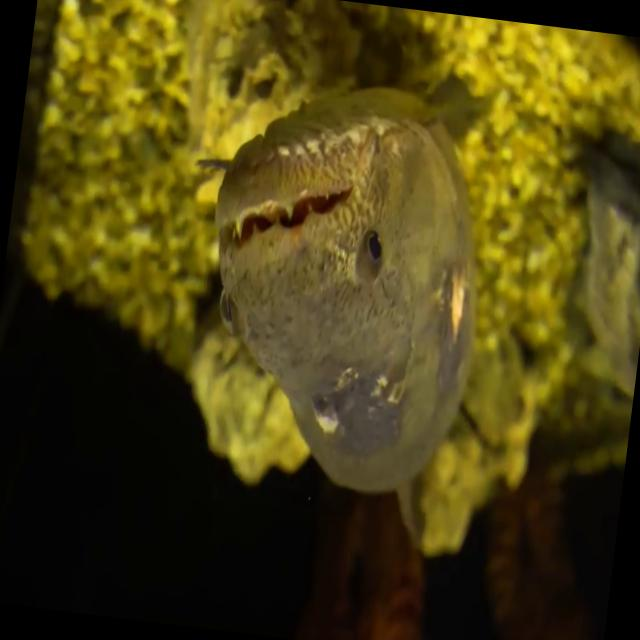fish: (142, 62, 544, 562)
